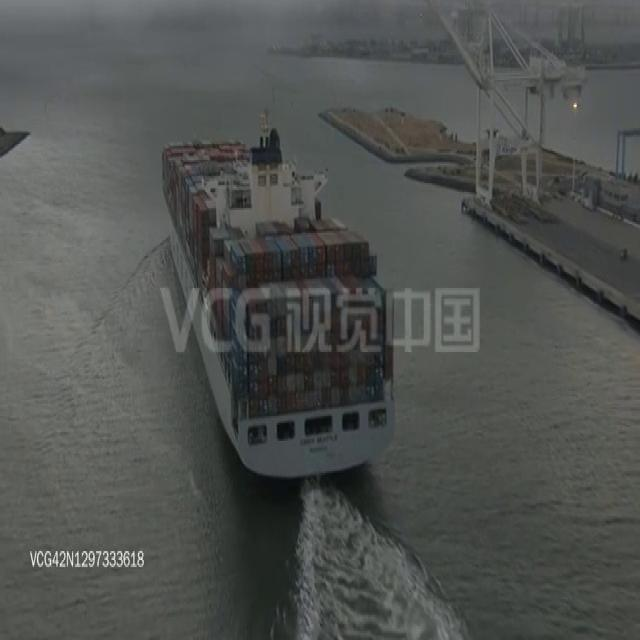cargoship: (159, 108, 398, 476)
